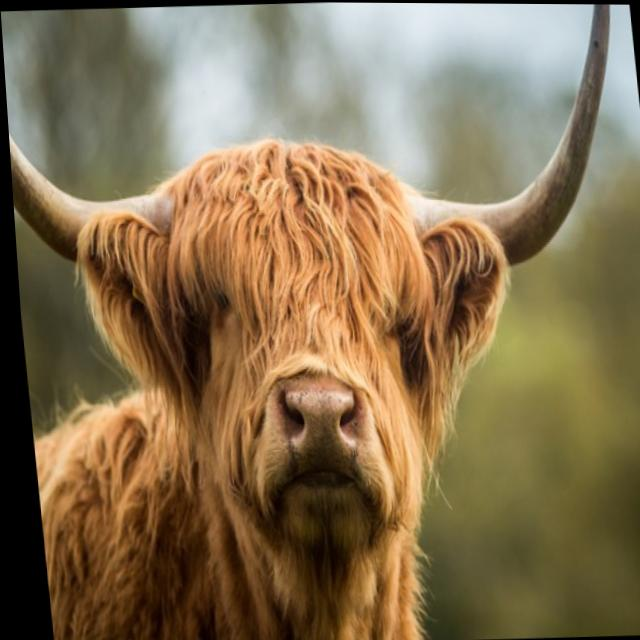cowFace: (0, 0, 640, 580)
